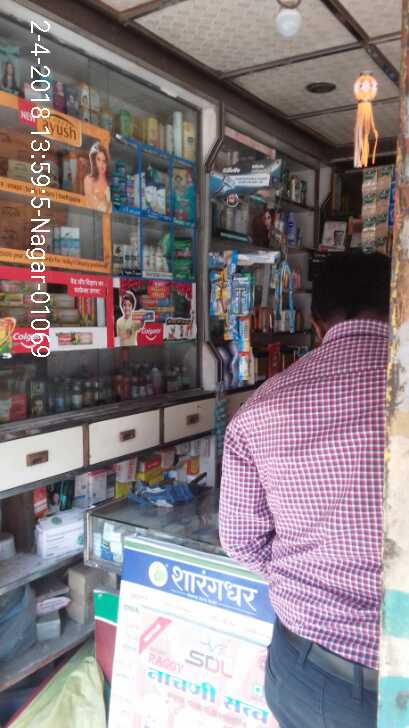vicks: (111, 159, 134, 207)
